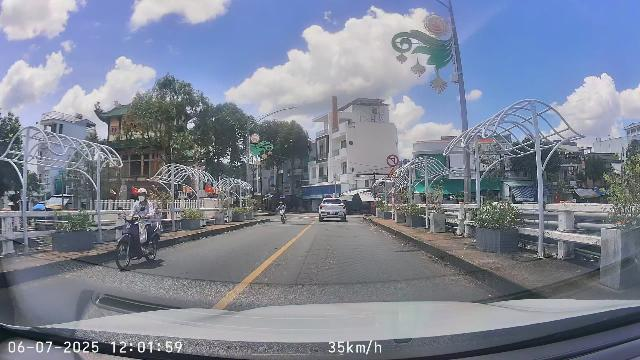123a-cam-re-trai: (386, 154, 399, 167)
